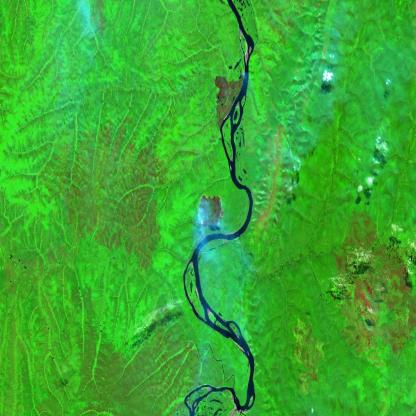fire: (194, 191, 224, 233)
